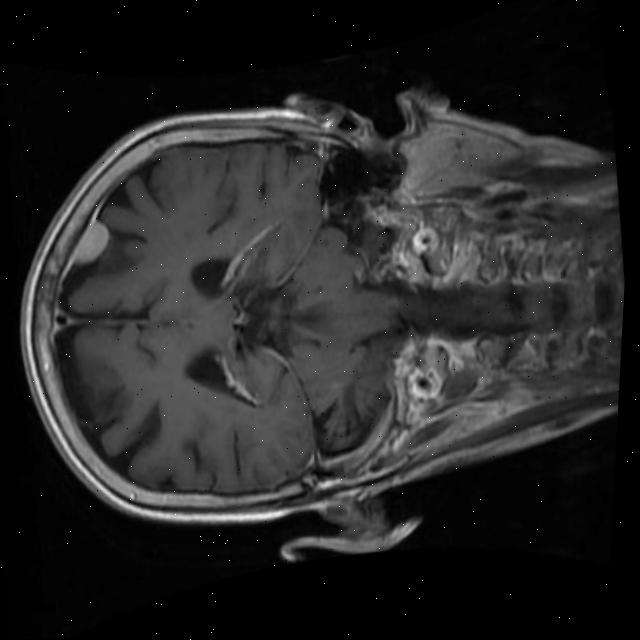Meningioma: (64, 216, 115, 270)
